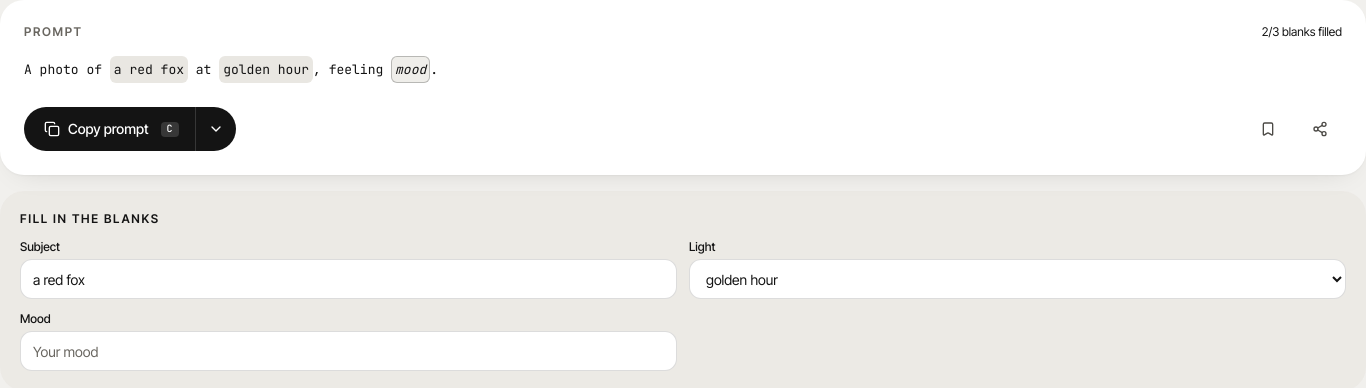
Test: PromptWorkbench › clicking a chip focuses its field; Reset restores defaults
Click the button with aria-label "edit subject" at (149, 70), box [110,56,188,83]
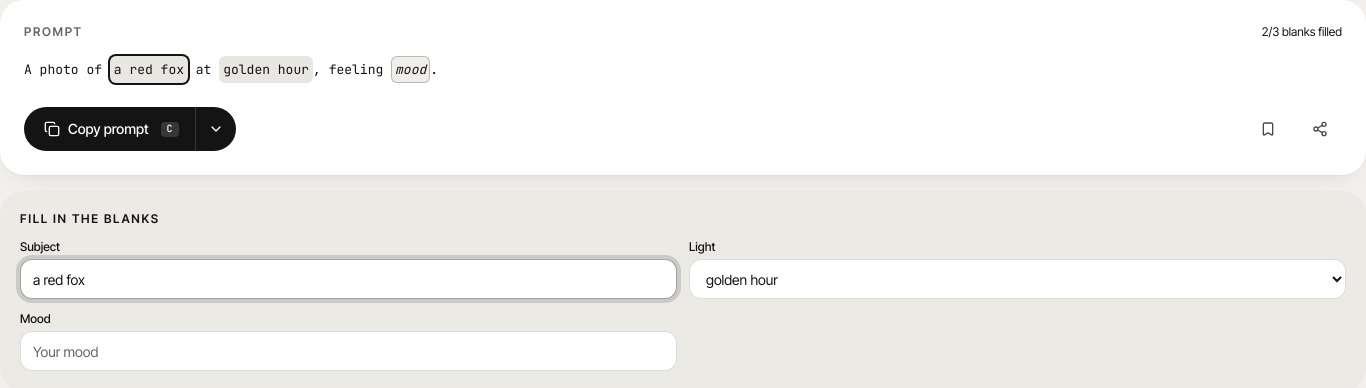
Type "an owl" into the field labelled "Subject" at (348, 279), box [20,259,677,299]
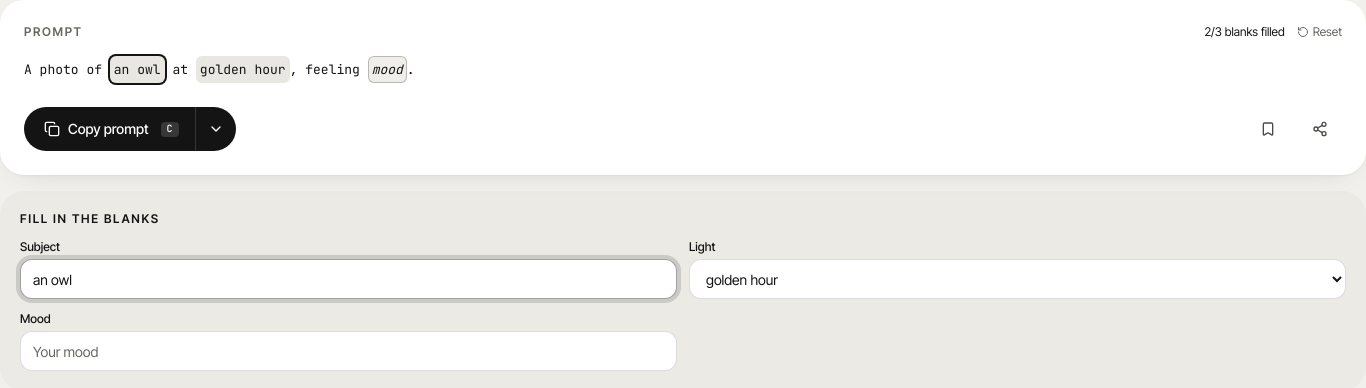
Click the button "Reset" at (1319, 32), box [1297,24,1342,40]
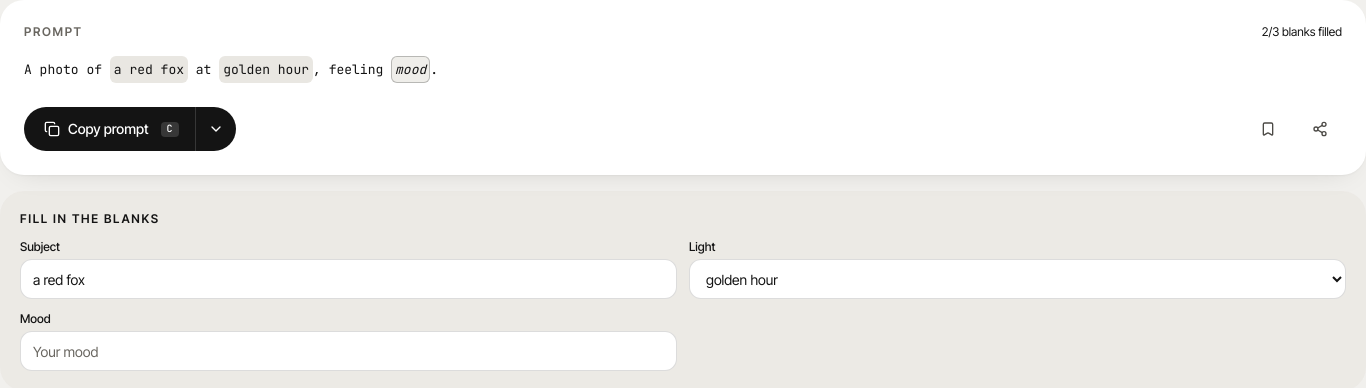
expect the field labelled "Subject" holds "a red fox": met, box [20,259,677,299]
